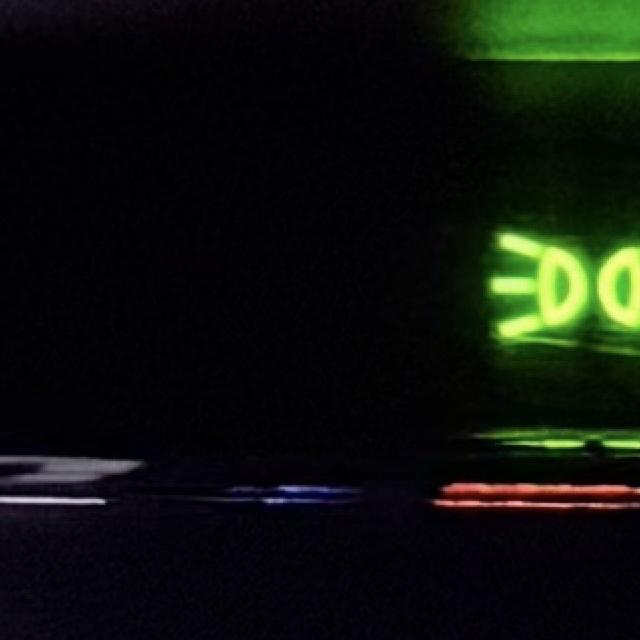Parking Light On: (494, 227, 640, 346)
